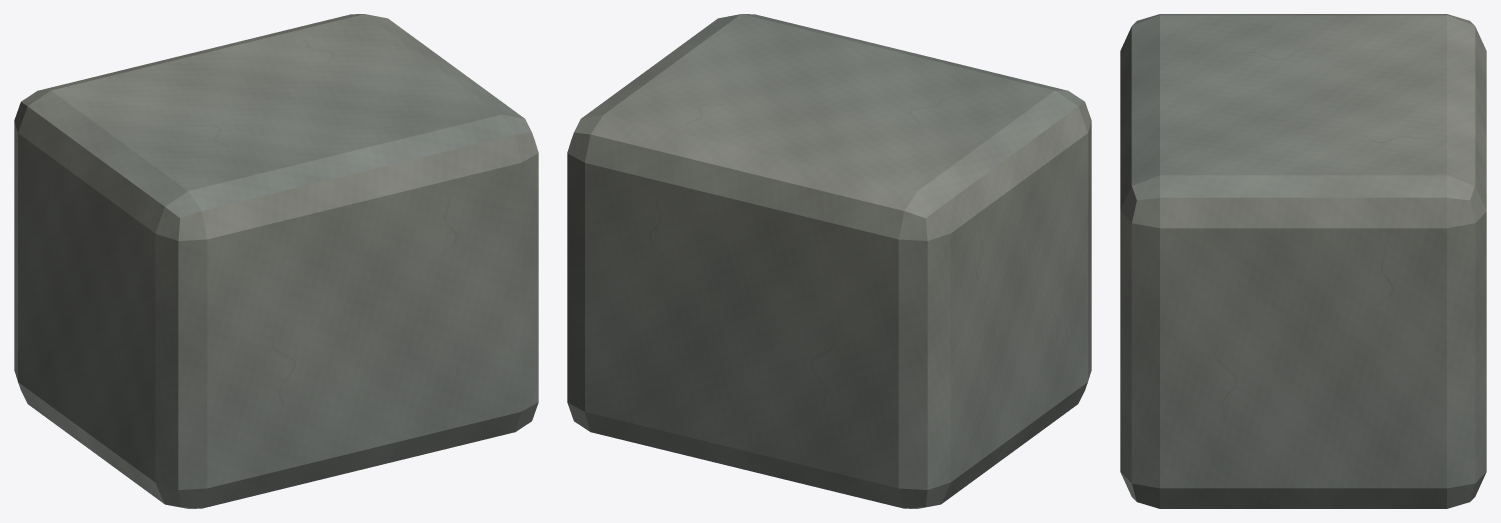
The model's file is forest_stone_block.glb.
3 renders of one model, left to right at view 1: azimuth 30°, elevation 25°; view 2: azimuth 150°, elevation 25°; view 3: azimuth 270°, elevation 25°, orthographic. The views are drawn at different scales.
Visible parts, largest first — view 1: Forest bridge dressed stone; view 2: Forest bridge dressed stone; view 3: Forest bridge dressed stone.
Part boxes in pixels (<box>): Forest bridge dressed stone: <box>14,14,538,508</box>; Forest bridge dressed stone: <box>567,14,1091,508</box>; Forest bridge dressed stone: <box>1120,14,1486,508</box>.
Size of the model in its own units: 0.3 by 0.24 by 0.24.
Materials: 1 (1 with a texture image).
